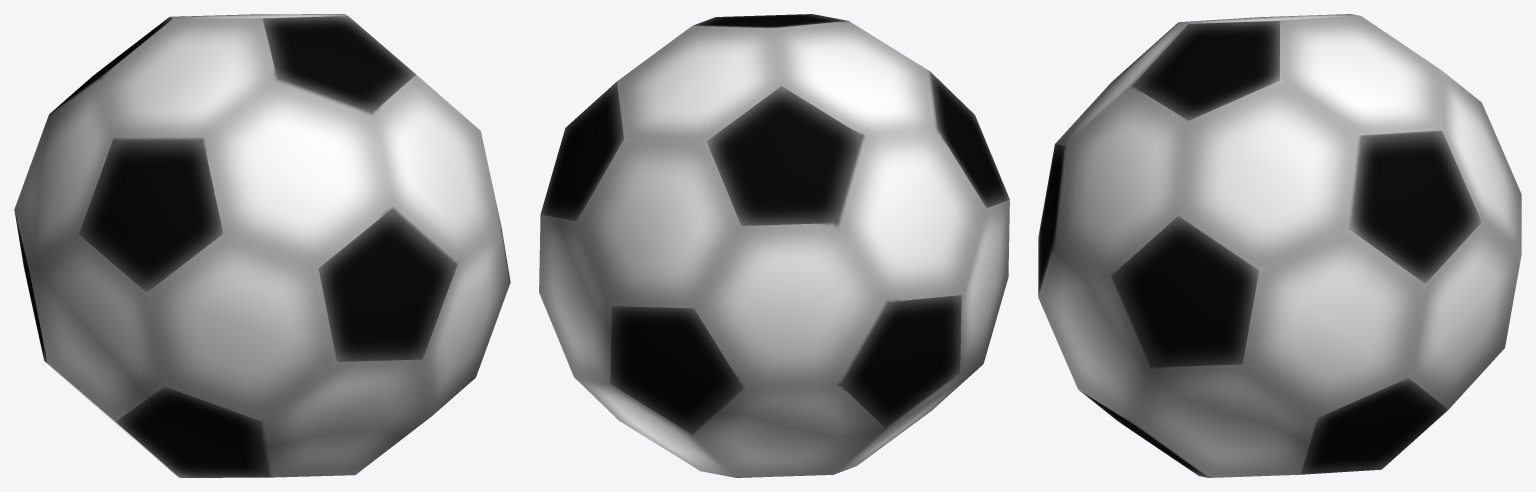
File: soccer_ball.fbx
3 views of the same model, side by side, from view 1: azimuth 30°, elevation 25°; view 2: azimuth 150°, elevation 25°; view 3: azimuth 270°, elevation 25° (orthographic). The views are drawn at different scales.
Parts seen in each view (by area): view 1: soccer_ball; view 2: soccer_ball; view 3: soccer_ball.
Part boxes in pixels (x1,y1,x2,y2): soccer_ball: [14, 14, 510, 477]; soccer_ball: [539, 14, 1009, 477]; soccer_ball: [1038, 14, 1521, 477].
Bounding box in the file's own units: 0.9007 × 0.9131 × 0.8888.
1 material, 1 textured.
